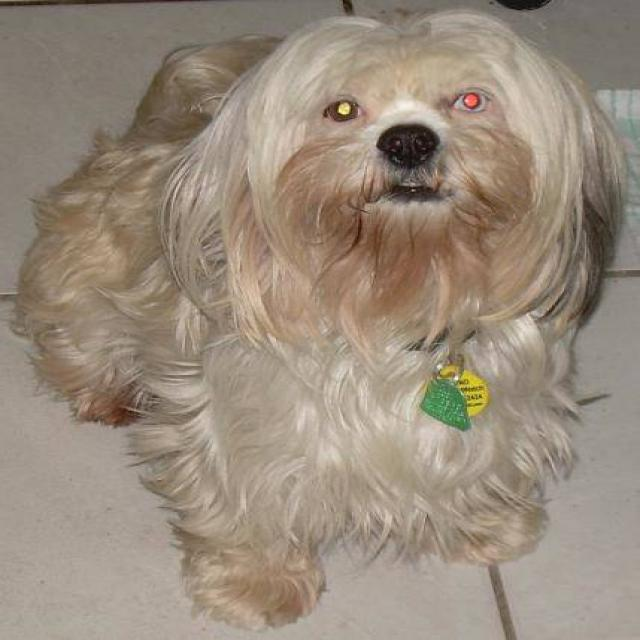dog: (13, 5, 631, 629)
